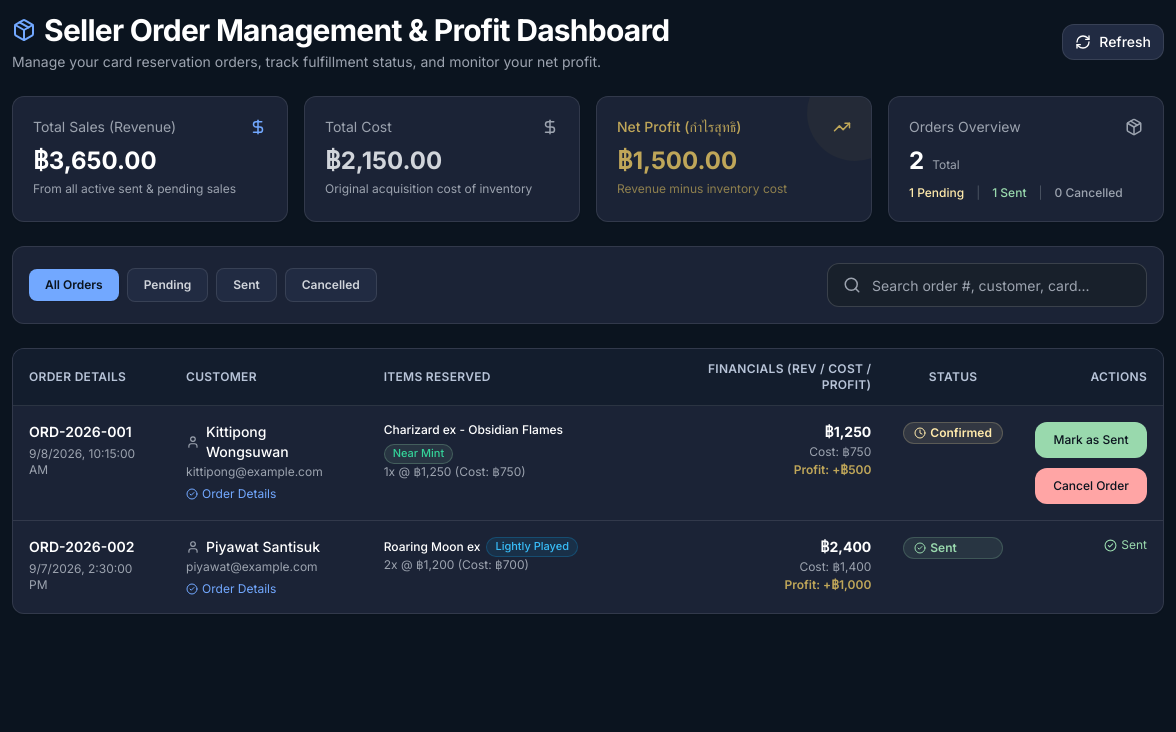
Scenario: SellerOrdersPage (SCRUM-27) › renders order list and allows status tab filtering
The image size is (1176, 732).
Expected: the text "ORD-2026-001" is shown, 29,423 -> 132,440
Expected: the text "ORD-2026-002" is shown, 29,538 -> 134,555
Click Pending filter tab
Click the button "Pending" at (168, 285), box 127,268 -> 208,302
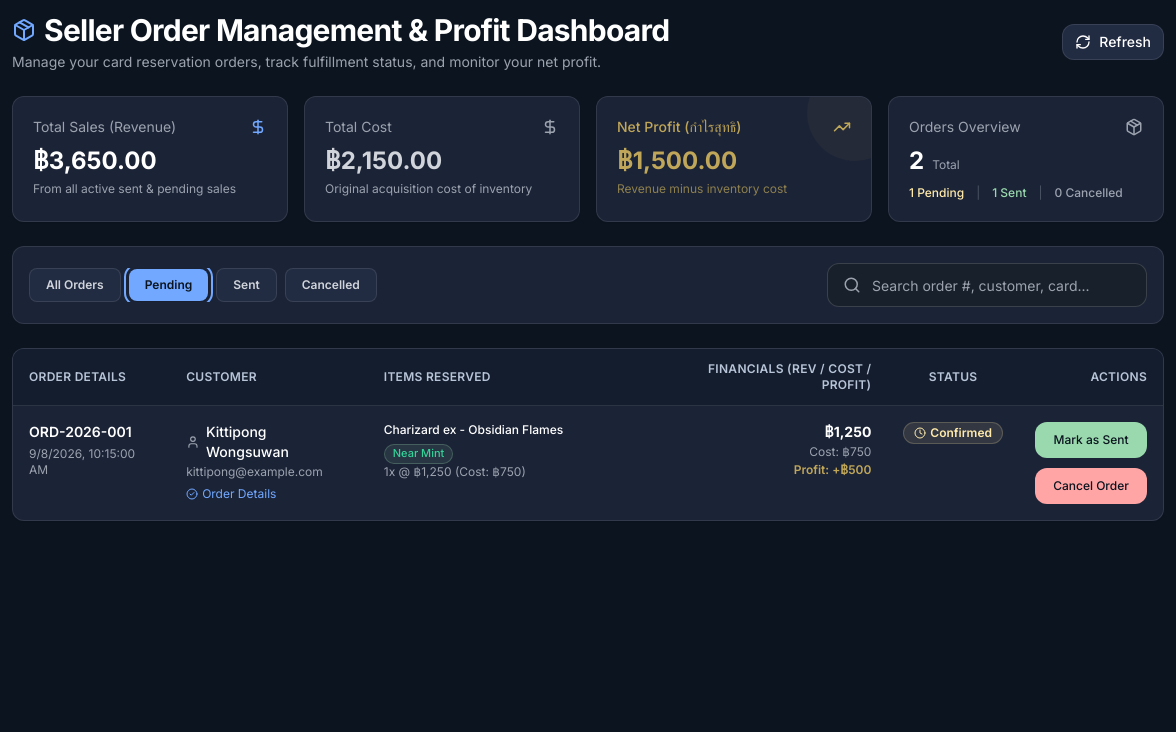
Expected: the text "ORD-2026-001" is shown, 29,423 -> 132,440
Expected: the text "ORD-2026-002" is gone
